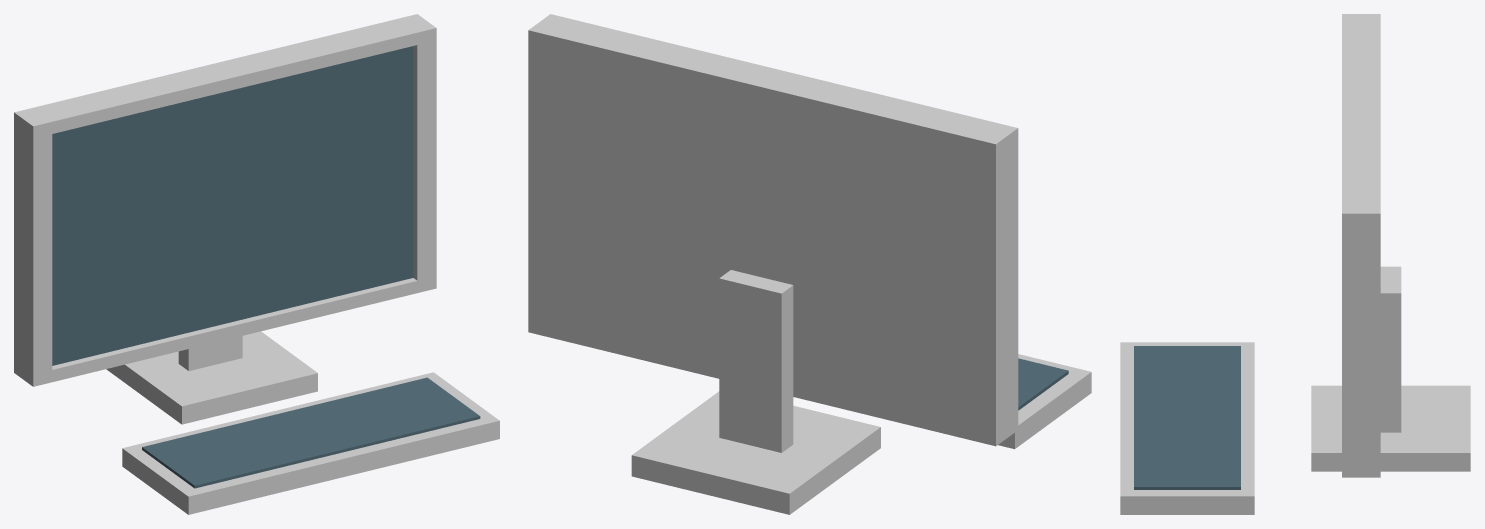
3 views of the same model, side by side, from view 1: azimuth 30°, elevation 25°; view 2: azimuth 150°, elevation 25°; view 3: azimuth 270°, elevation 25° (orthographic). The views are drawn at different scales.
Parts seen in each view (by area): view 1: pCube6, pCube4; view 2: pCube6, pCube4; view 3: pCube6, pCube4.
Part boxes in pixels (x1,y1,x2,y2): pCube6: (14, 14, 436, 424); pCube4: (122, 372, 499, 514); pCube6: (528, 14, 1018, 514); pCube4: (998, 354, 1091, 449); pCube6: (1311, 14, 1470, 477); pCube4: (1120, 342, 1254, 514).
Bounding box in the file's own units: 1 × 0.7576 × 0.7423.
